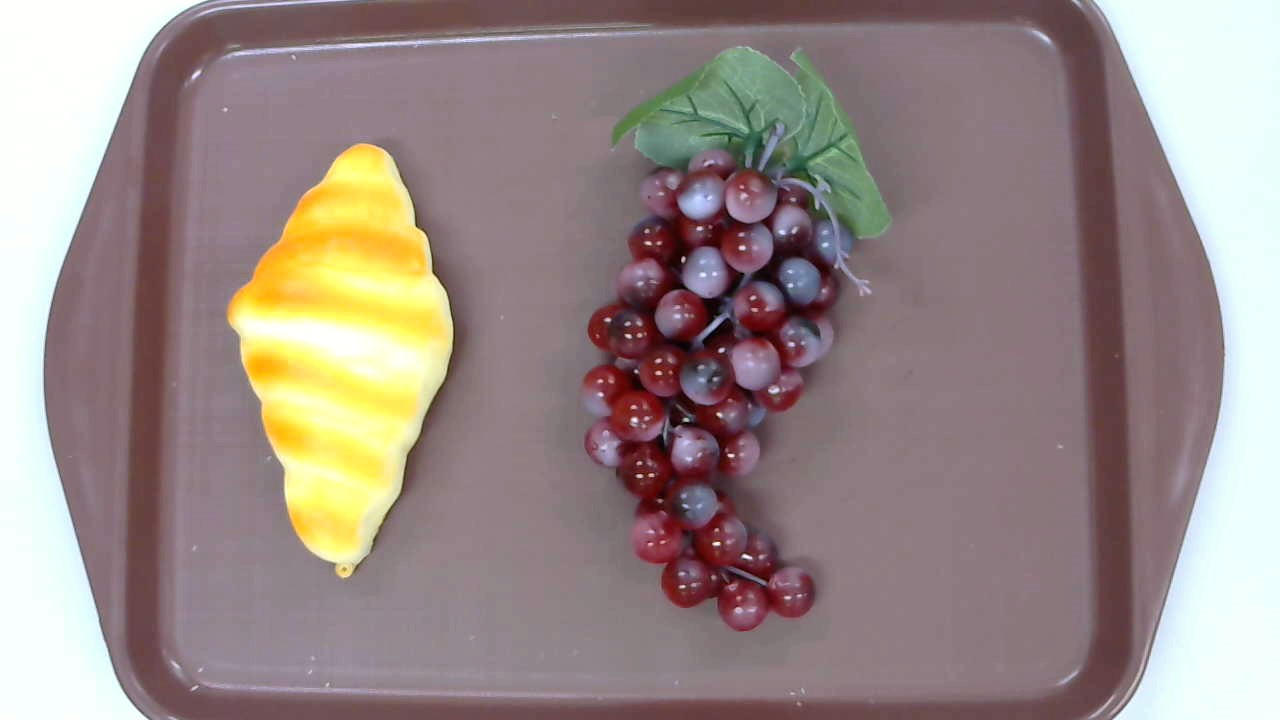croissant: (226, 144, 452, 581)
grape: (580, 45, 891, 631)
